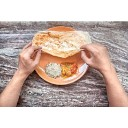dosa: (30, 29, 93, 57)
